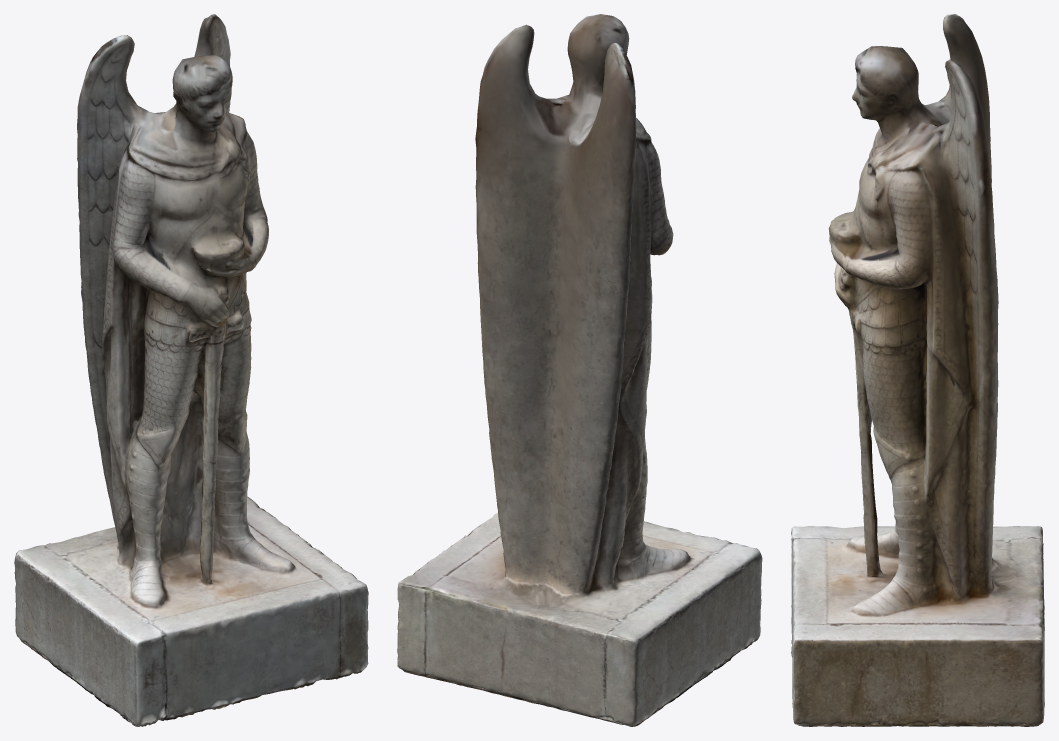
The model's file is SanMiguel.fbx.
The picture shows the model from 3 angles, left to right: view 1: azimuth 30°, elevation 25°; view 2: azimuth 150°, elevation 25°; view 3: azimuth 270°, elevation 25°; orthographic projection. The views are drawn at different scales.
Visible parts, largest first — view 1: poly.008; view 2: poly.008; view 3: poly.008.
Part boxes in pixels (bbox=[...]): poly.008: bbox=[14, 14, 368, 726]; poly.008: bbox=[397, 14, 762, 726]; poly.008: bbox=[791, 14, 1044, 726].
Size of the model in its own units: 75.66 by 191 by 69.58.
